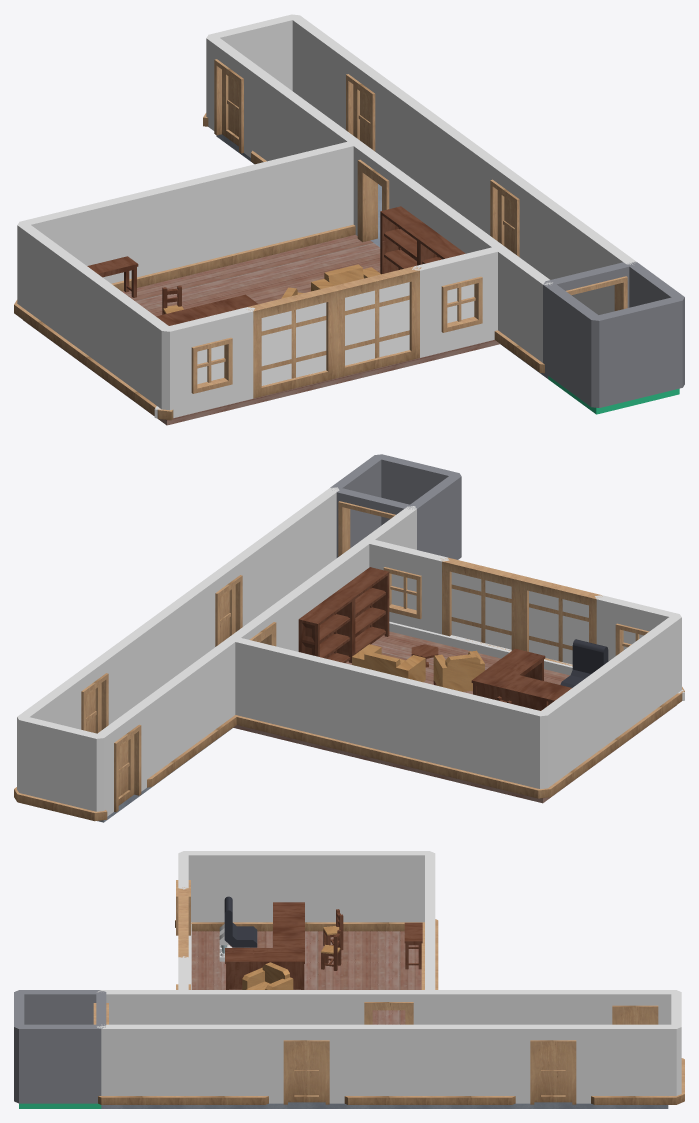
File: Level_0_3.fbx
3 renders of one model, top to bottom at view 1: azimuth 30°, elevation 25°; view 2: azimuth 150°, elevation 25°; view 3: azimuth 270°, elevation 25°, orthographic. The views are drawn at different scales.
Parts seen in each view (by area): view 1: mergedBlocks; view 2: mergedBlocks; view 3: mergedBlocks.
Boxes of the visible parts, x1,y1,x2,y2 form: mergedBlocks: (14, 14, 684, 425); mergedBlocks: (14, 454, 684, 822); mergedBlocks: (14, 851, 684, 1108).
Bounding box in the file's own units: 52.28 × 11 × 81.65.
Materials: 13 (6 with a texture image).
